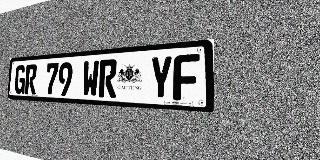7: (45, 63, 59, 95)
9: (58, 62, 73, 96)
F: (173, 54, 199, 101)
G: (14, 65, 26, 94)
R: (98, 59, 117, 98), (25, 64, 37, 95)
W: (82, 60, 99, 97)
Y: (149, 55, 173, 100)
